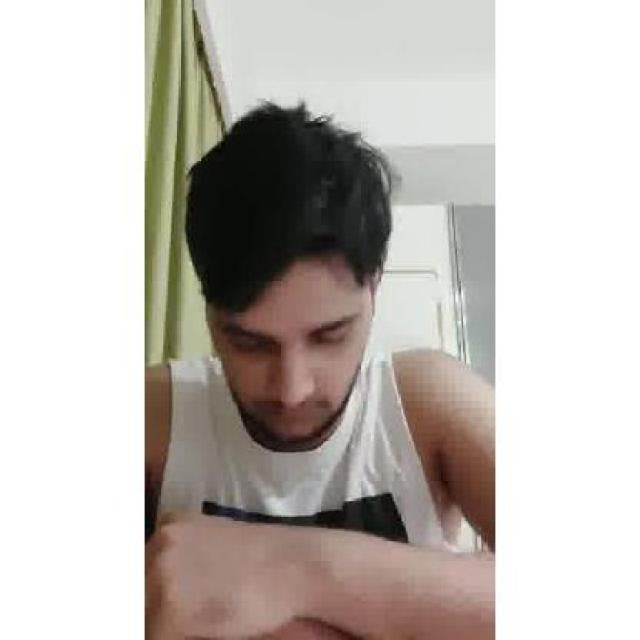inattentif: (184, 98, 379, 447)
